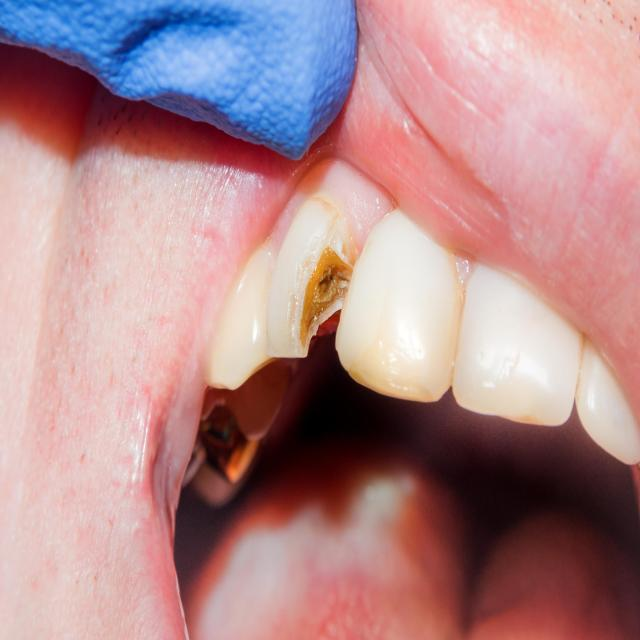Caries: (319, 280, 323, 286), (312, 317, 314, 319), (330, 277, 330, 278)
Cavity: (298, 246, 353, 349)
Tooth: (336, 207, 464, 403), (452, 264, 583, 426), (265, 191, 358, 359)
